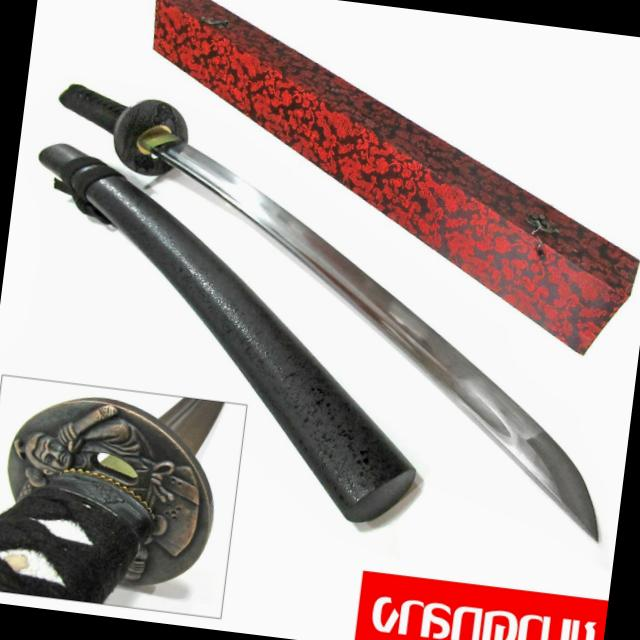long sword: (11, 76, 640, 541), (0, 370, 250, 612)
